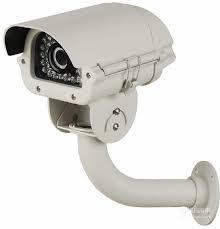tutu: (3, 3, 180, 145)
